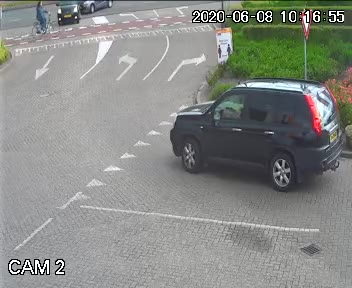car: (163, 62, 349, 198), (56, 0, 82, 29), (77, 0, 120, 12)
